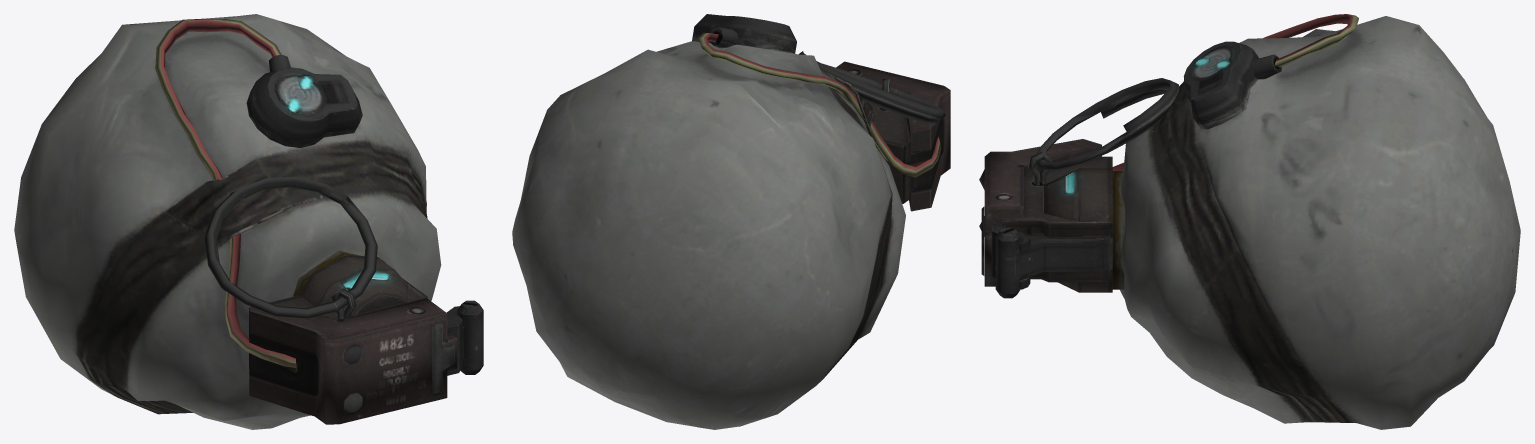
The model's file is t6_wpn_grenade_semtex_view_LOD0.obj.
3 views of the same model, side by side, from view 1: azimuth 30°, elevation 25°; view 2: azimuth 150°, elevation 25°; view 3: azimuth 270°, elevation 25° (orthographic). The views are drawn at different scales.
Visible parts, largest first — view 1: mtl_t6_wpn_grenade_semtex; view 2: mtl_t6_wpn_grenade_semtex; view 3: mtl_t6_wpn_grenade_semtex.
Part boxes in pixels (x1,y1,x2,y2): mtl_t6_wpn_grenade_semtex: [14, 14, 483, 429]; mtl_t6_wpn_grenade_semtex: [512, 14, 950, 429]; mtl_t6_wpn_grenade_semtex: [979, 14, 1520, 429].
Bounding box in the file's own units: 8.19 × 8.6 × 11.3.
